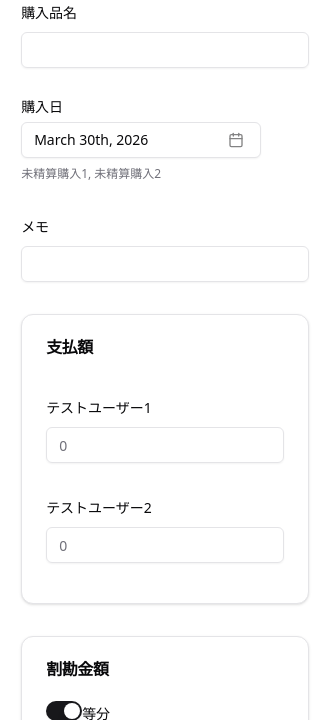
Test case: ClientForm › 支払額クリアボタン › 支払額に0以外の値が入力されている場合、×ボタンが表示される
等分スイッチをOFFにして、支払額のみにクリアボタンが表示されるようにする
Click the switch named "等分".
click(64, 711)  # box [46, 701, 82, 719]
(page scrolled)
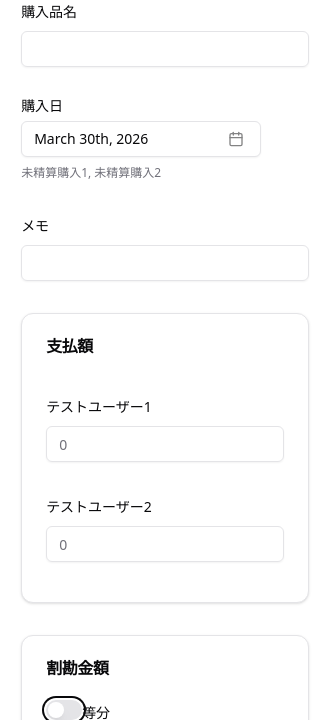
Type "1000" into the field labelled "テストユーザー1".
click(165, 444); type("1000")  # box [46, 426, 284, 462]
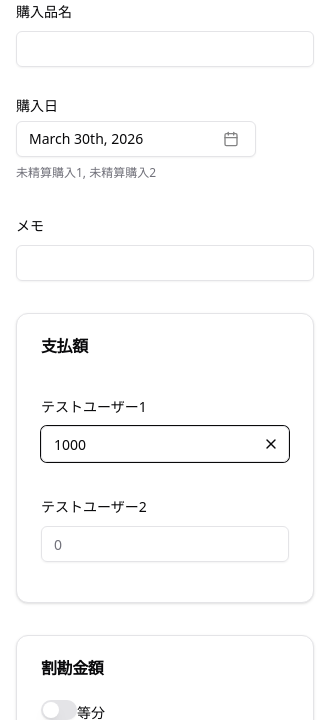
Expected: the button named "クリア" is shown, [257, 430, 285, 458]
